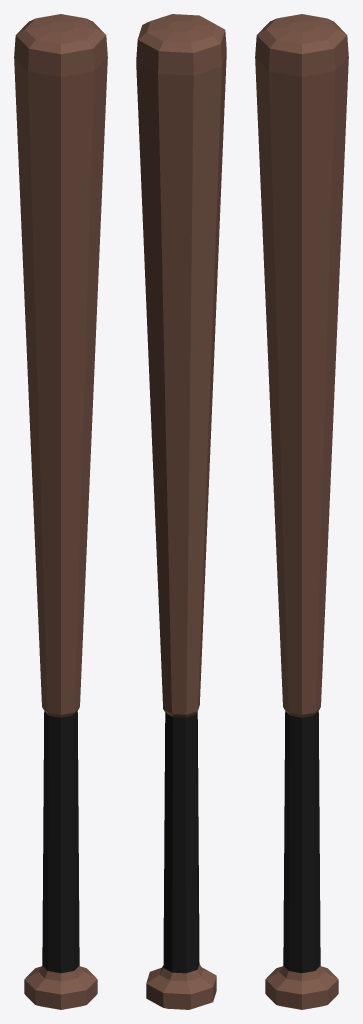
3 renders of one model, left to right at view 1: azimuth 90°, elevation 25°; view 2: azimuth 150°, elevation 25°; view 3: azimuth 270°, elevation 25°, orthographic.
Parts seen in each view (by area): view 1: BaseBall_Bat_01; view 2: BaseBall_Bat_01; view 3: BaseBall_Bat_01.
Boxes of the visible parts, left/top/right/bottom form: BaseBall_Bat_01: left=14, top=14, right=107, bottom=1009; BaseBall_Bat_01: left=136, top=14, right=226, bottom=1009; BaseBall_Bat_01: left=255, top=14, right=348, bottom=1009.
Bounding box in the file's own units: 1.3 × 14.83 × 1.3.
